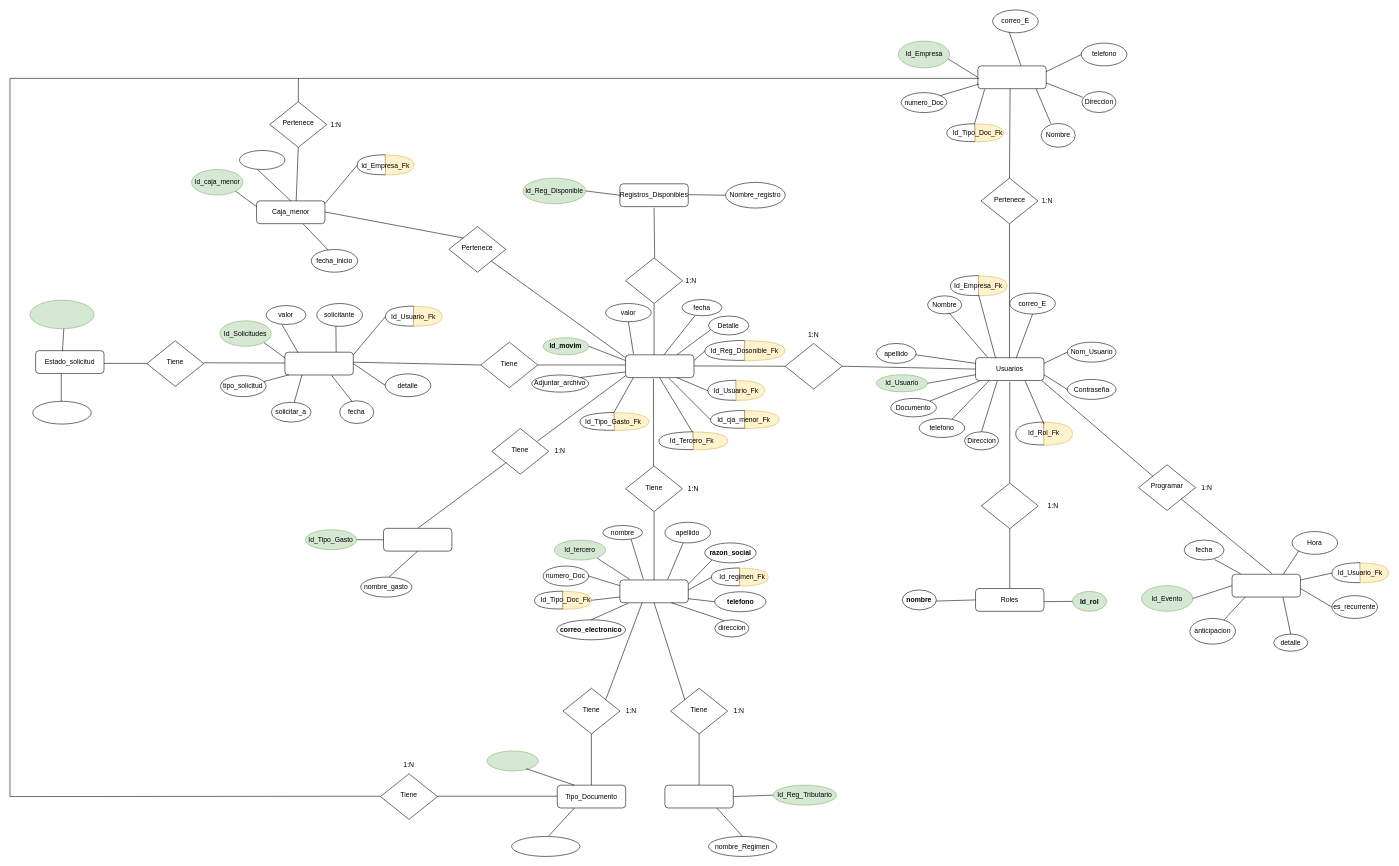
Some shapes in this 1399 by 866 pixel diagram are drawn without their labels. Here are the shapes that lost their labels. From the top down, the centre of each, then its label:
At (x=1011, y=77): "Empresa".
At (x=262, y=160): "monto_inicial".
At (x=654, y=280): "Elegir".
At (x=61, y=314): "Id_Estado_solicitud".
At (x=318, y=363): "Solicitudes".
At (x=659, y=366): "Movimiento_Caja".
At (x=813, y=366): "Crear".
At (x=61, y=412): "Nombre_Estado".
At (x=1009, y=506): "Asignar".
At (x=417, y=539): "Tipos_de_Gastos".
At (x=653, y=591): "Terceros".
At (x=1265, y=585): "Eventos".
At (x=512, y=760): "Id_Documento".
At (x=698, y=796): "Regimen_Tributario".
At (x=545, y=846): "nombre_Documento".
